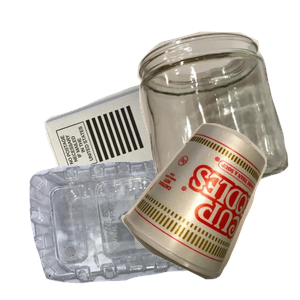glass: (135, 29, 300, 209)
paper: (42, 68, 275, 248)
plastic: (27, 152, 247, 300)
trash: (119, 121, 300, 300)
